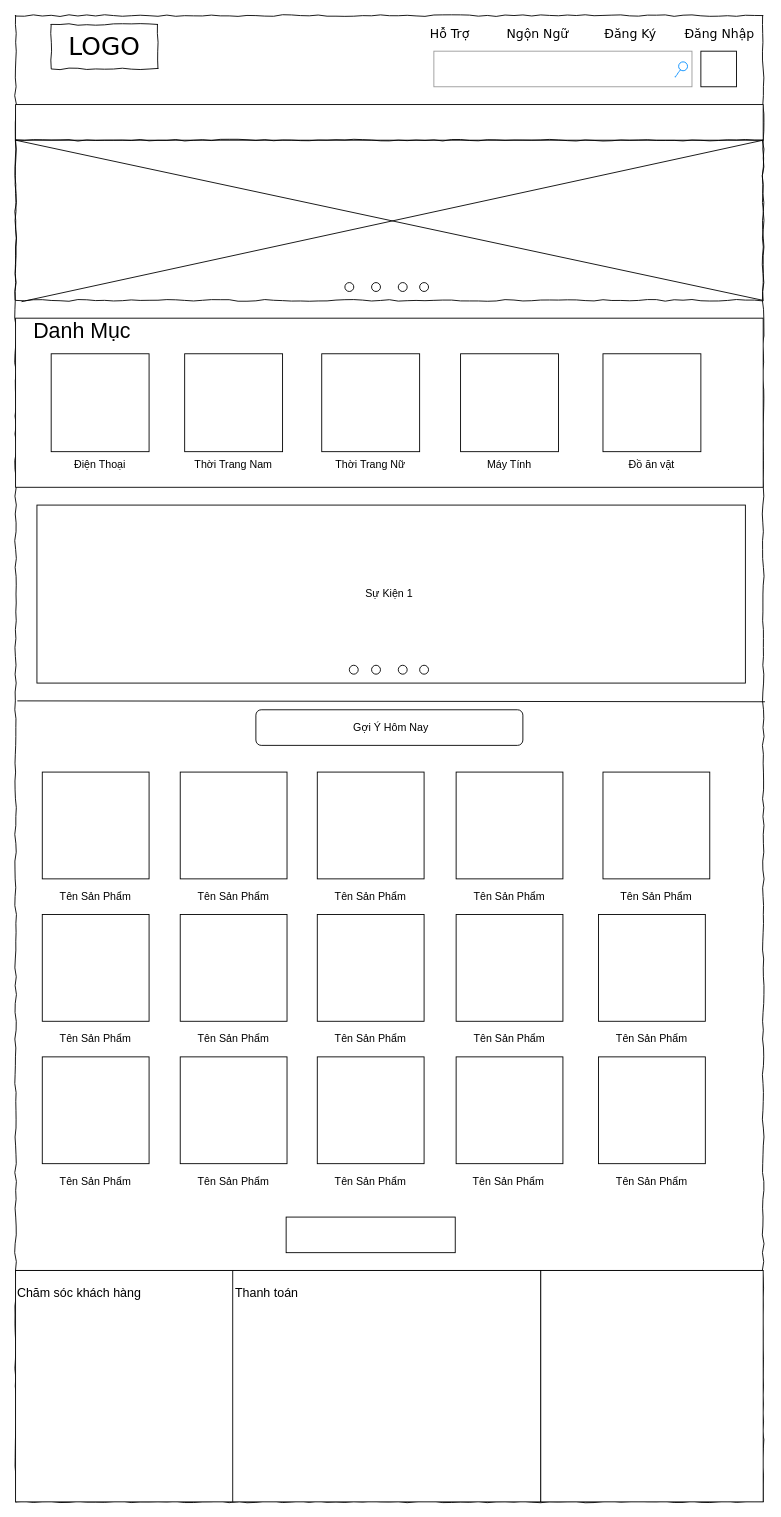
The diagram is 781 pixels wide and 1517 high, and some of its shapes have lost their labels. Here are the shapes that lost their labels. From the top down, the centre of each, then its label:
pixel 562 68: Search
pixel 370 1234: Xem Thêm
pixel 651 1386: Các Kênh Truyền Thông
